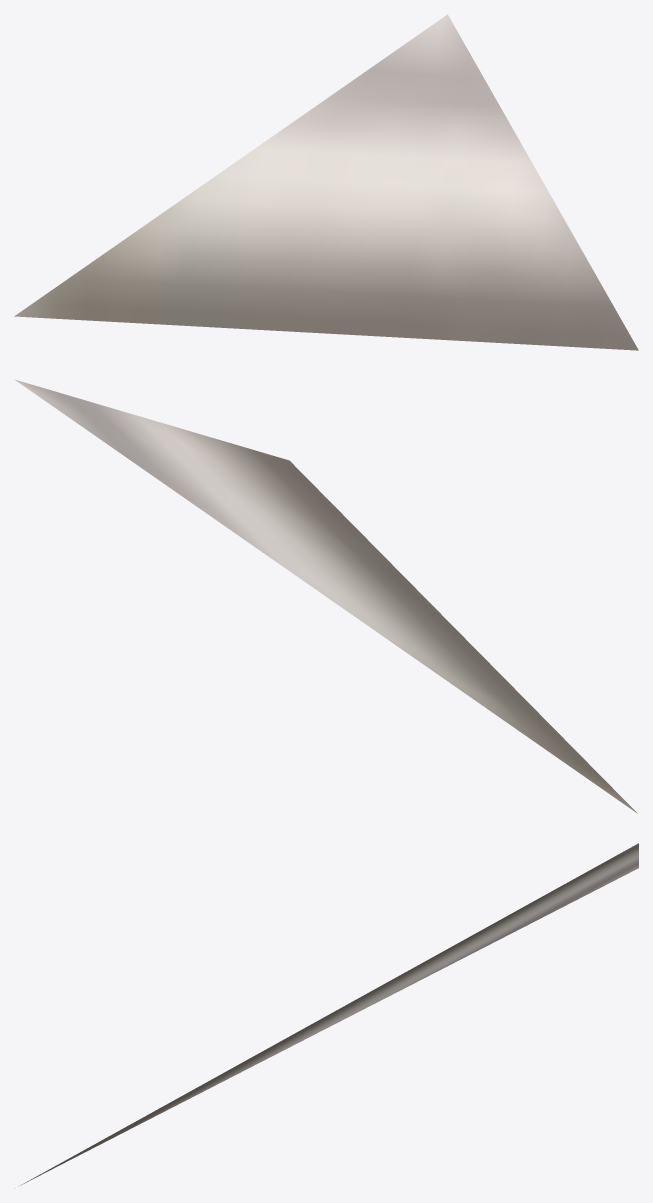
3 renders of one model, top to bottom at view 1: azimuth 30°, elevation 25°; view 2: azimuth 150°, elevation 25°; view 3: azimuth 270°, elevation 25°, orthographic. The views are drawn at different scales.
Size of the model in its own units: 0.2016 by 0.0872 by 0.1539.
1 material, 1 textured.
